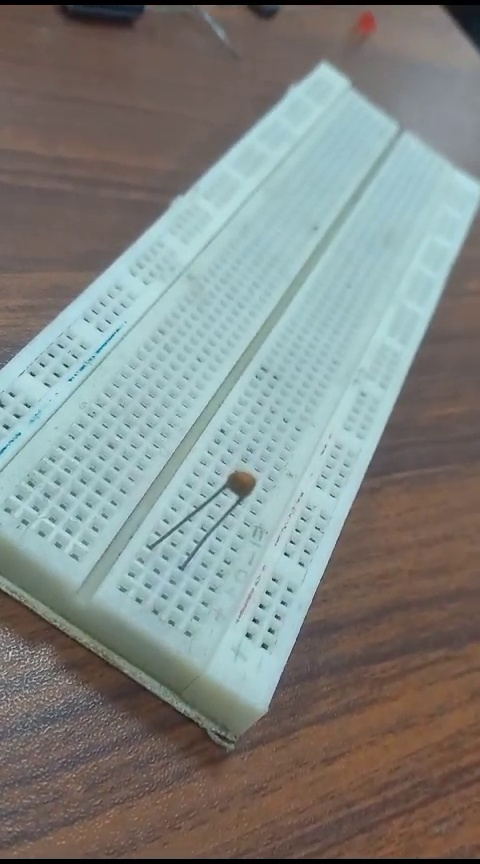ceramic capacitor: (140, 441, 263, 573)
